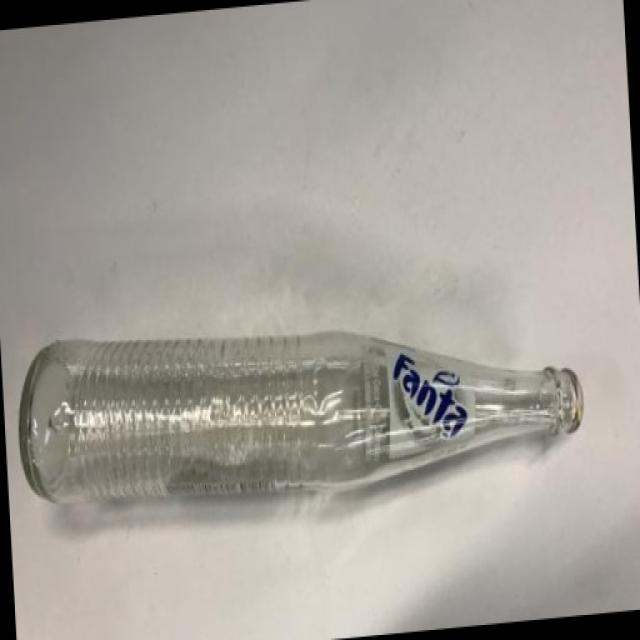vidrio: (16, 294, 640, 536)
